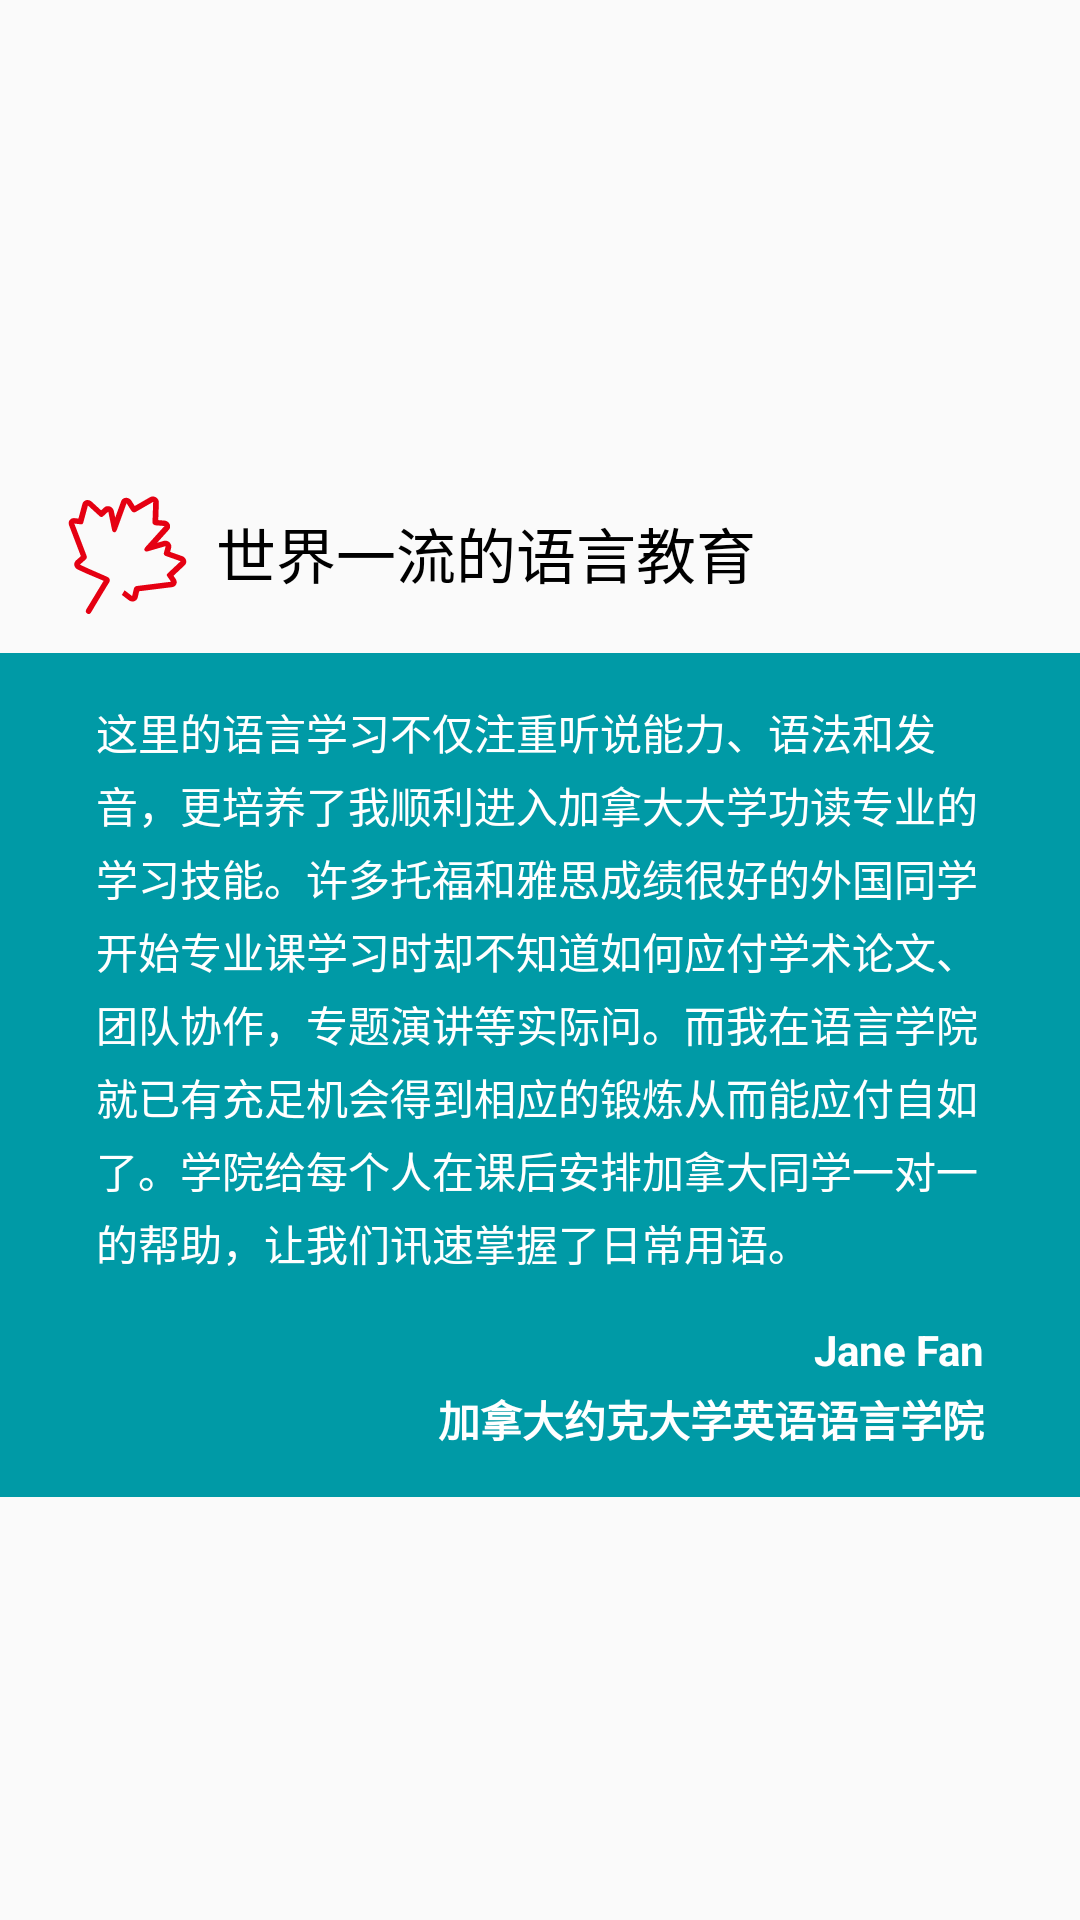

Named icons in this screenshot (1080×1920) and their bounding boxes, (x1, y1, x2, y2):
leaf: (68, 496, 187, 614)
